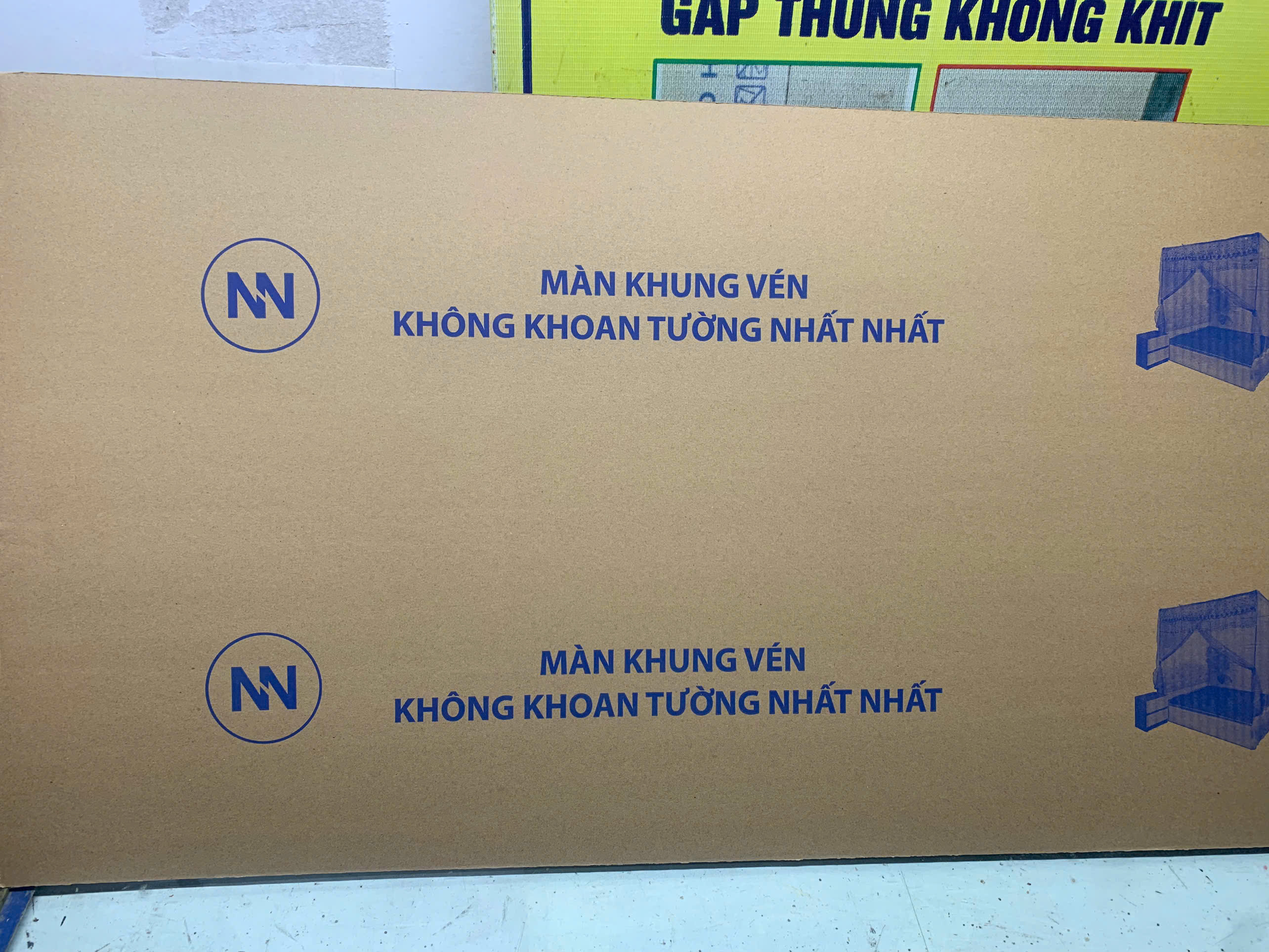box: (0, 74, 1269, 886)
